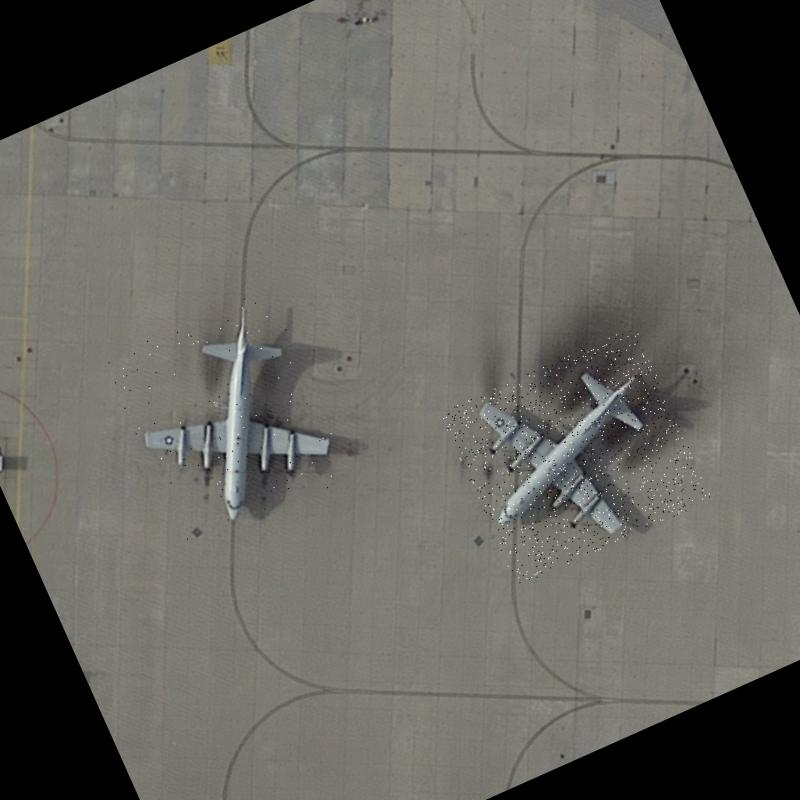A9: (439, 326, 712, 586), (103, 287, 352, 551)
